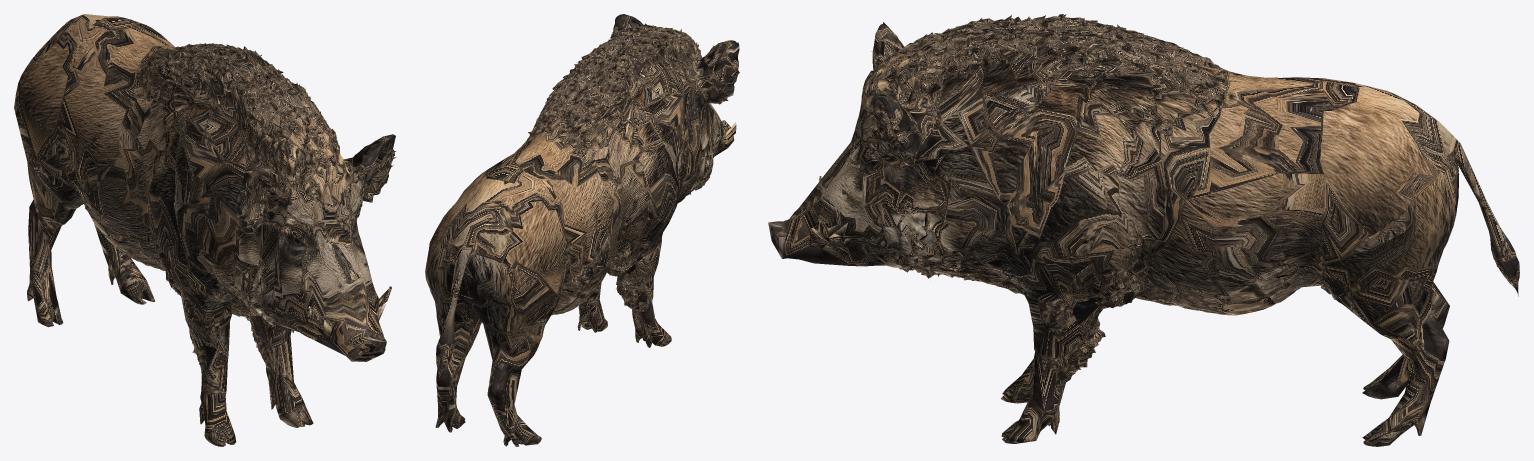
The model's file is boar.glb.
3 views of the same model, side by side, from view 1: azimuth 30°, elevation 25°; view 2: azimuth 150°, elevation 25°; view 3: azimuth 270°, elevation 25° (orthographic). The views are drawn at different scales.
Size of the model in its own units: 0.5097 by 1.1 by 1.89.
1 material, 1 textured.
